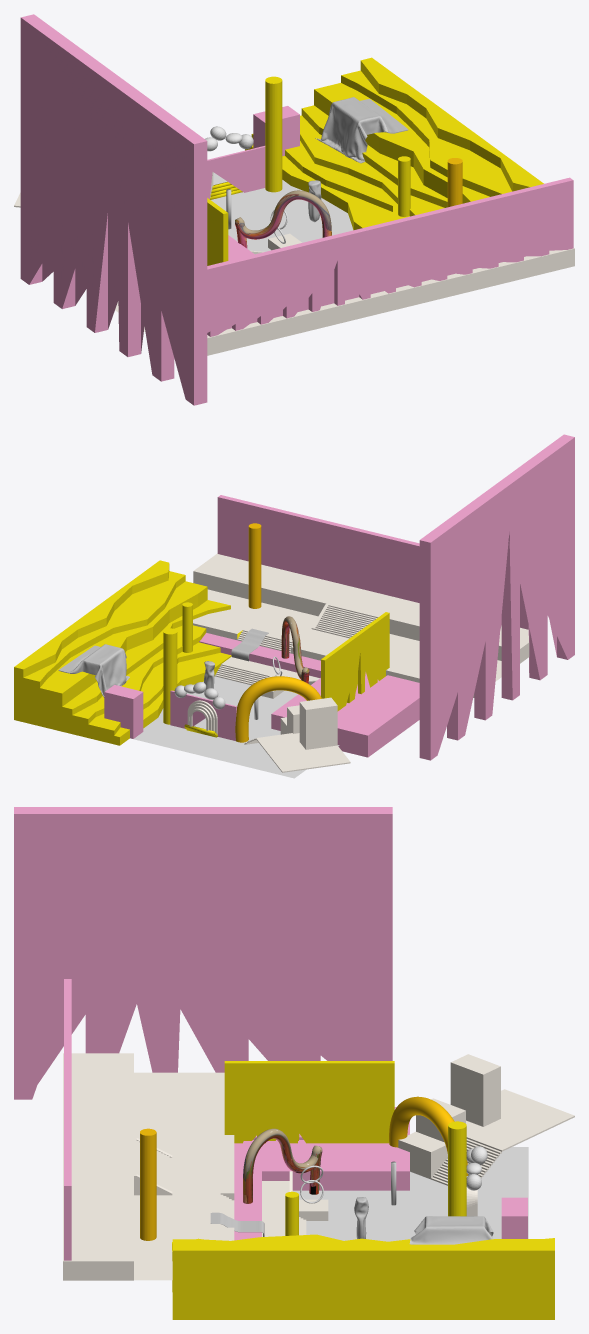
Rendered from Bubble Pop Gallery.fbx.
3 views of the same model, one above another, from view 1: azimuth 30°, elevation 25°; view 2: azimuth 150°, elevation 25°; view 3: azimuth 270°, elevation 25° (orthographic). The views are drawn at different scales.
Parts seen in each view (by area): view 1: High Arch, Blue Arch, Big Stairs, Terrace 1, Floor, SS sculpture, Columes, Small Arch, Terrace 2, Snake, OG Arch, Lemon (+1 smaller); view 2: High Arch, Big Stairs, Terrace 1, Blue Arch, Terrace 2, Floor, Corner, OG Arch, Lemon, SS sculpture, Columes, Small Arch (+3 smaller); view 3: High Arch, Terrace 1, Big Stairs, OG Arch, Corner, Terrace 2, Floor, Lemon, SS sculpture, Columes, Blue Arch, Snake (+1 smaller).
Part boxes in pixels (x1,y1,x2,y2): High Arch: (20,14,207,405); Blue Arch: (207,177,573,336); Big Stairs: (245,57,543,230); Terrace 1: (115,233,574,355); Floor: (211,172,353,251); SS sculpture: (226,97,408,229); Columes: (210,76,410,216); Small Arch: (207,146,265,199); Terrace 2: (228,106,299,260); Snake: (235,190,331,248); OG Arch: (207,198,228,265); Lemon: (447,158,462,207); High Arch: (419,434,574,760); Big Stairs: (14,560,242,745); Terrace 1: (193,553,529,698); Blue Arch: (217,495,528,629); Terrace 2: (104,633,419,757); Floor: (130,676,339,778); Corner: (244,697,350,772); OG Arch: (321,612,389,711); Lemon: (235,523,321,742); SS sculpture: (58,628,268,719); Columes: (163,602,217,737); Small Arch: (170,690,236,740); High Arch: (14,807,392,1099); Terrace 1: (63,1053,328,1280); Big Stairs: (172,1234,554,1319); OG Arch: (224,1061,394,1143); Corner: (398,1054,574,1185); Terrace 2: (234,1107,527,1240); Floor: (292,1147,528,1241); Lemon: (140,1096,468,1240); SS sculpture: (210,1161,493,1244); Columes: (285,1121,466,1235); Blue Arch: (64,979,71,1260); Snake: (243,1128,322,1203).
Size of the model in its own units: 6430 by 3875 by 6721.
